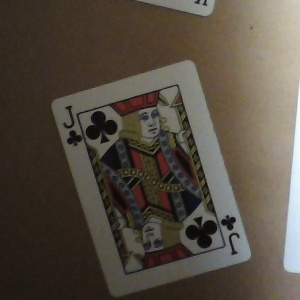card: (47, 59, 253, 298)
